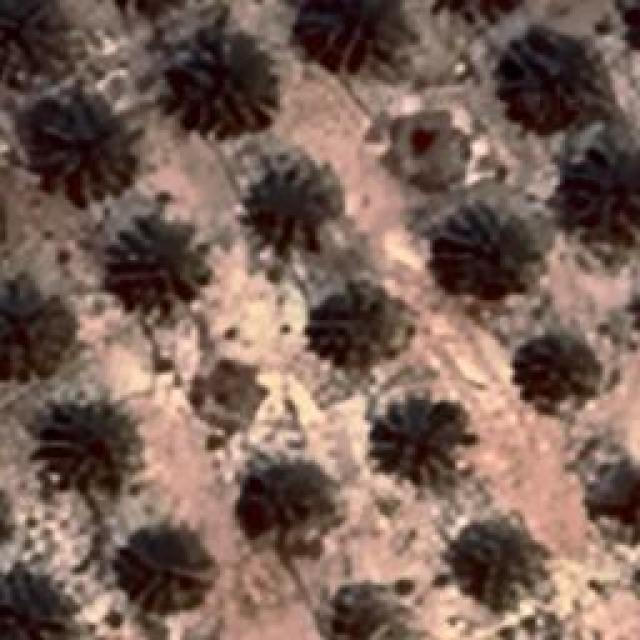PalmTree: (40, 41, 359, 612), (232, 155, 340, 283), (171, 30, 279, 140), (26, 88, 134, 196), (500, 28, 612, 124), (435, 206, 543, 304), (95, 217, 200, 315), (441, 522, 554, 612), (308, 276, 414, 366), (46, 407, 144, 495), (364, 395, 458, 483), (118, 522, 215, 606), (242, 464, 338, 548), (302, 0, 416, 70), (552, 155, 640, 245), (521, 328, 609, 416), (0, 280, 70, 380), (0, 562, 80, 636), (590, 460, 640, 532), (424, 0, 530, 20), (0, 474, 11, 554)
